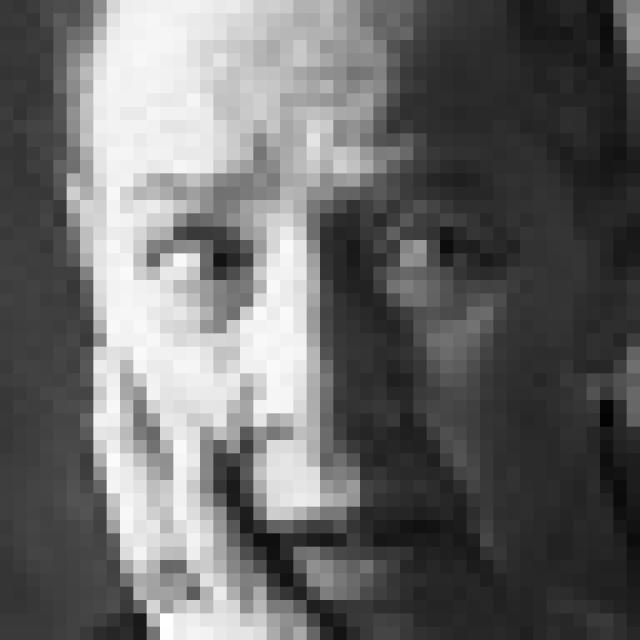fear: (120, 167, 523, 610)
